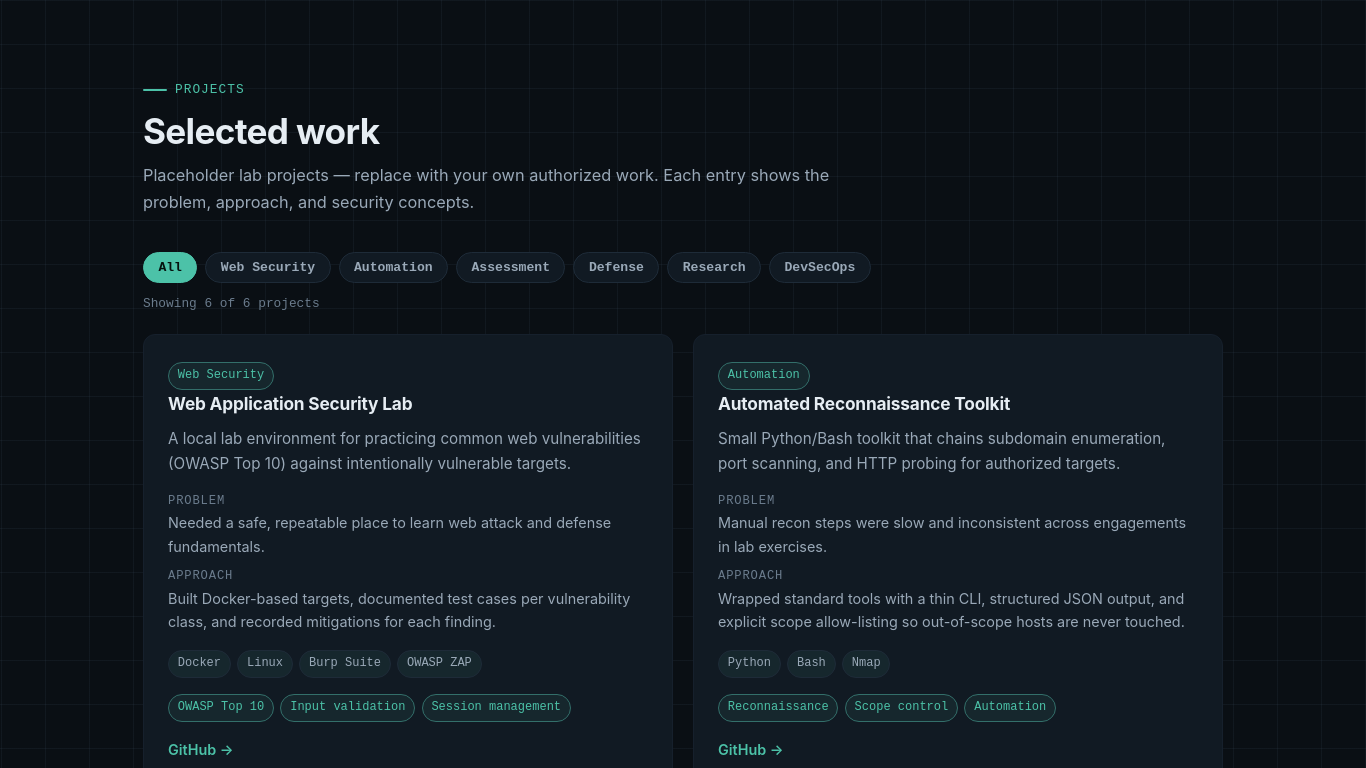
Test case: Projects › filters projects by category
Click the button "Automation".
click(393, 268)  # box [339,252,448,283]
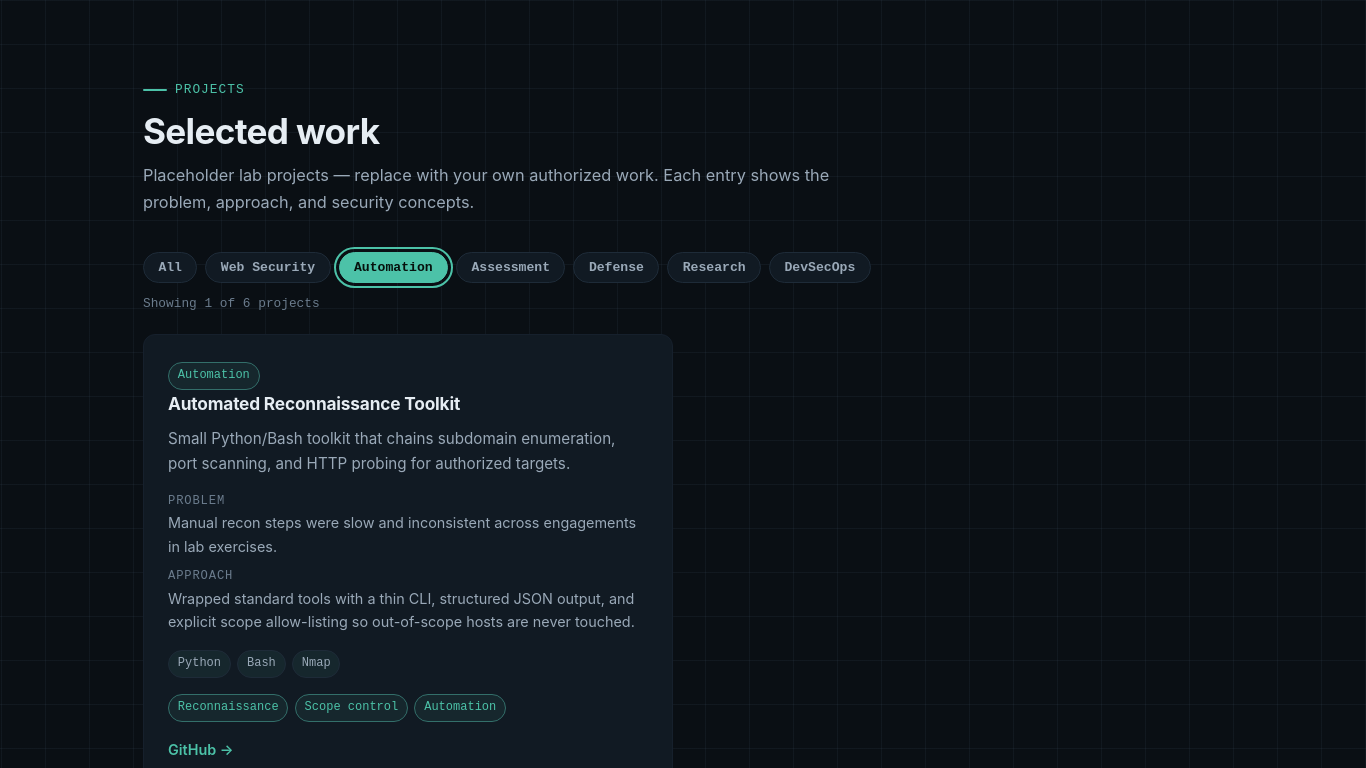
Expected: the heading "Automated Reconnaissance Toolkit" is shown, [168,393,460,414]
Expected: the text "Showing 1 of 6 projects" is shown, [143,296,320,311]
Expected: the heading "Web Application Security Lab" is gone
Click the button "All".
click(170, 268)  # box [143,252,197,283]
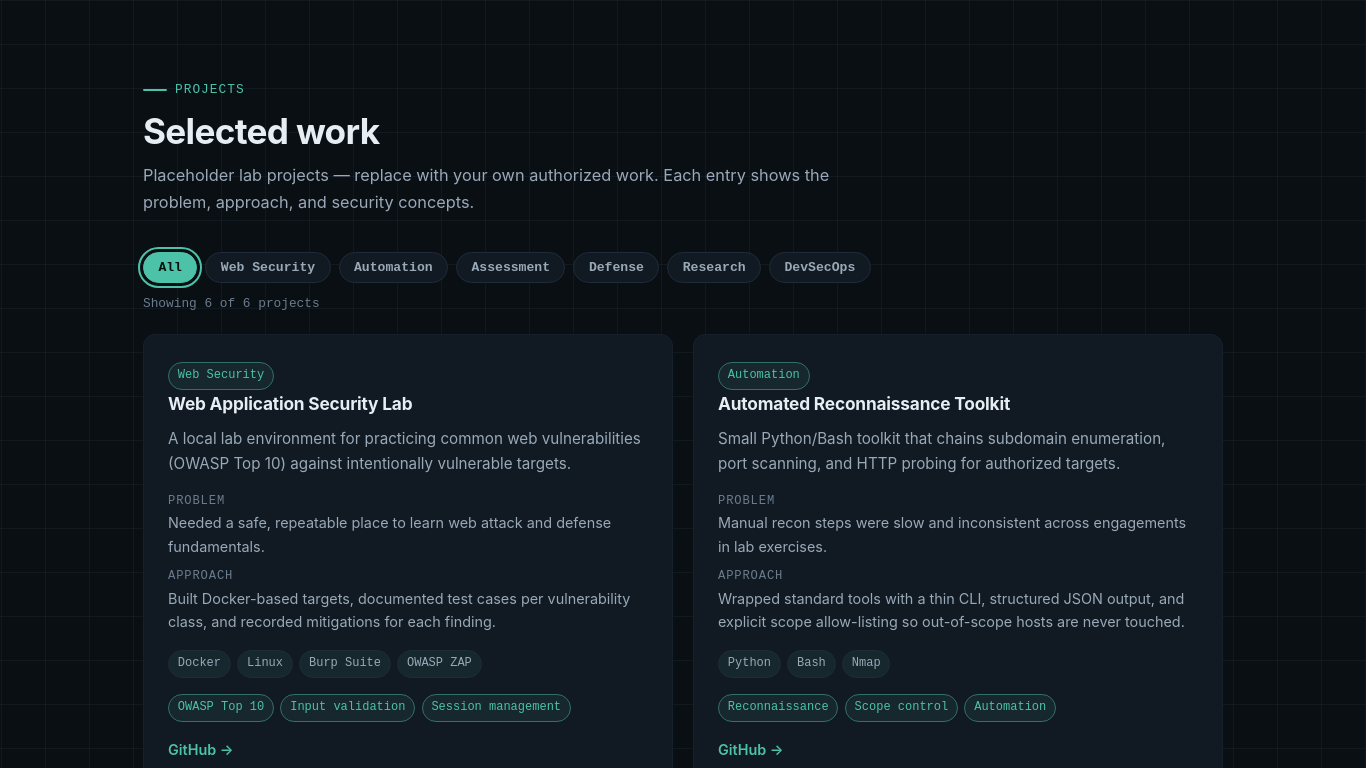
Expected: the text "Showing 6 of 6 projects" is shown, [143,296,320,311]
